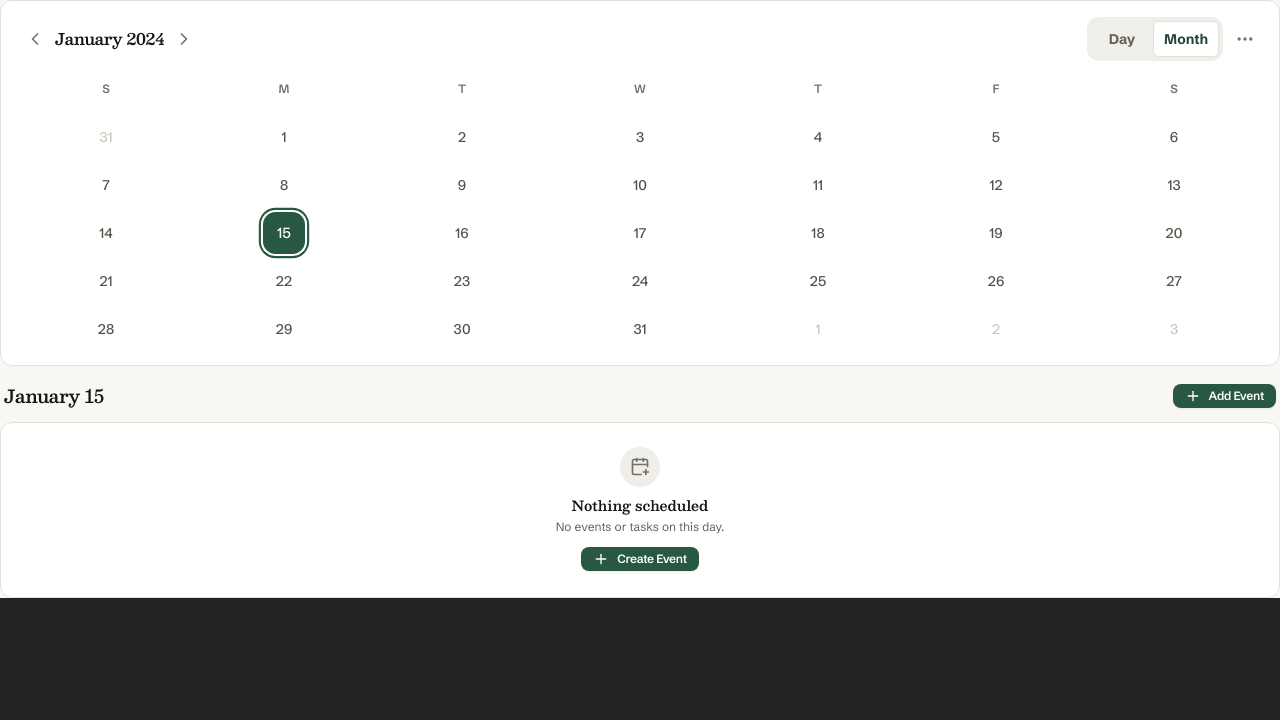
Test: BudgetCalendar › navigates between months
Expected: the heading "January 2024" is shown, top-left (55, 27), bottom-right (164, 51)
// Click Next
Click the button named "Next month": (184, 39) top-left (166, 21), bottom-right (202, 57)
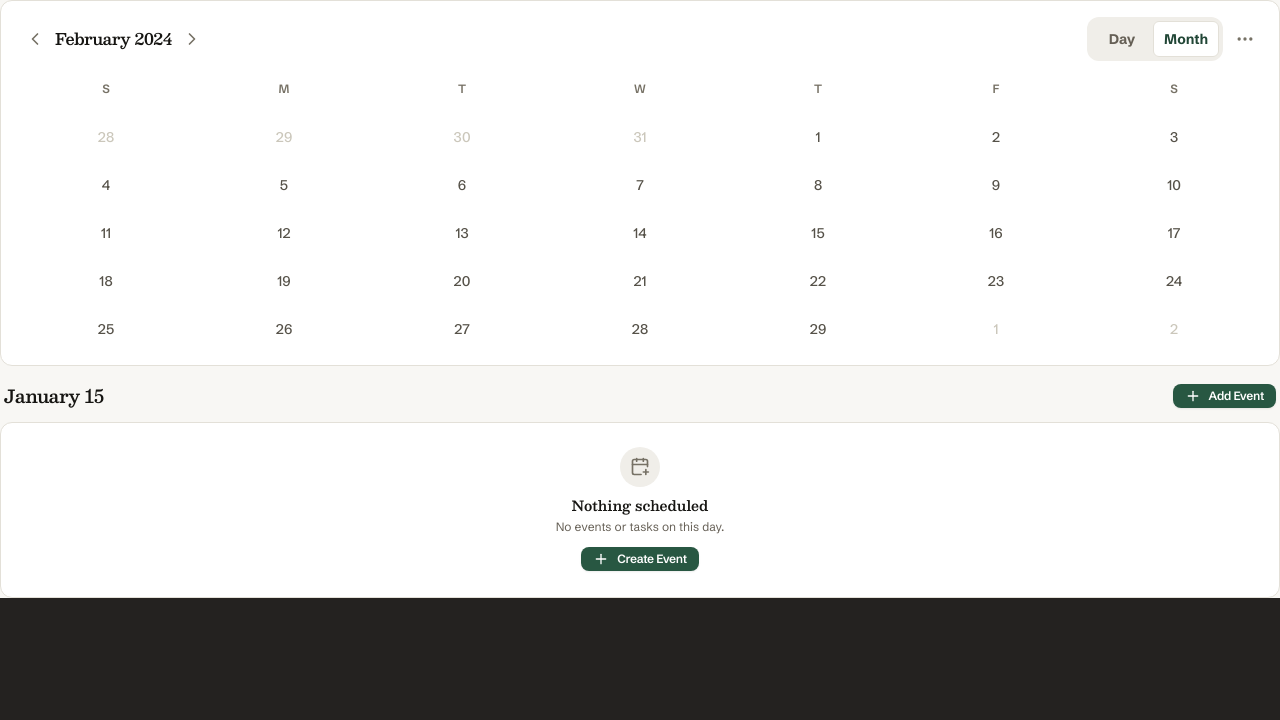
Expected: the heading "February 2024" is shown, top-left (55, 27), bottom-right (172, 51)
// Click Prev twice (back to current, then prev)
Click the button named "Previous month": (35, 39) top-left (17, 21), bottom-right (53, 57)
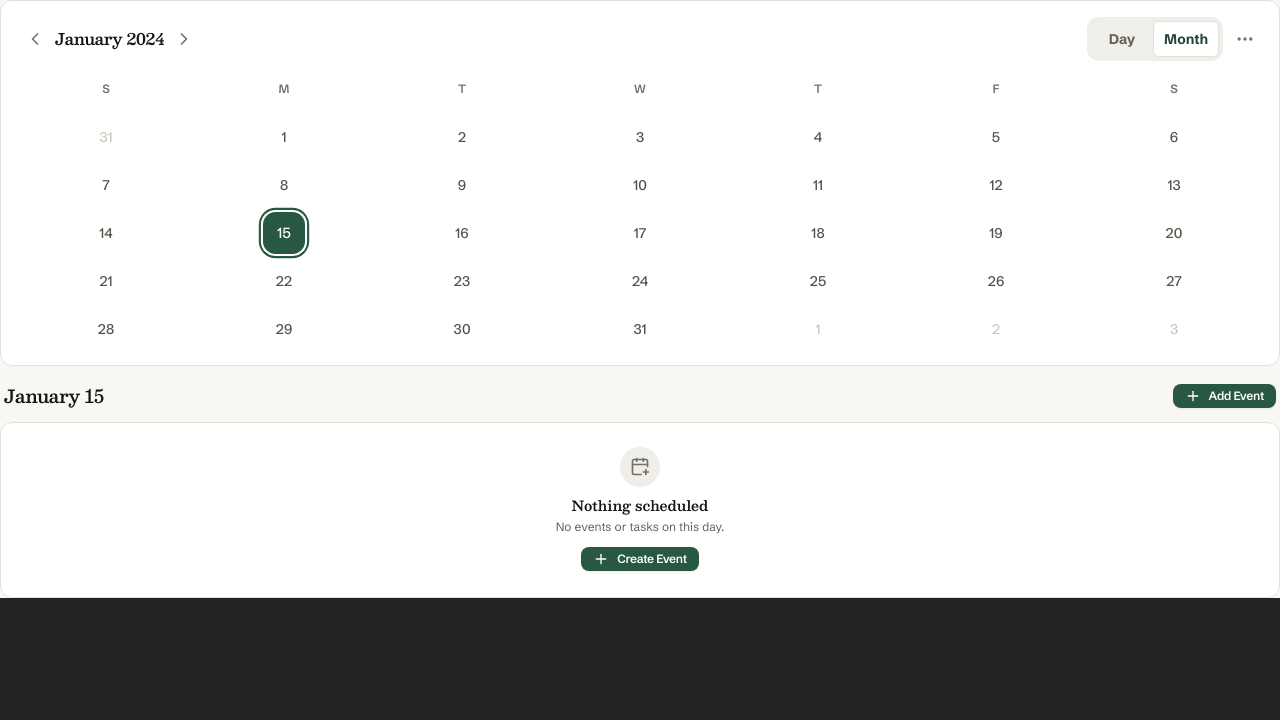
Click the button named "Previous month": (35, 39) top-left (17, 21), bottom-right (53, 57)
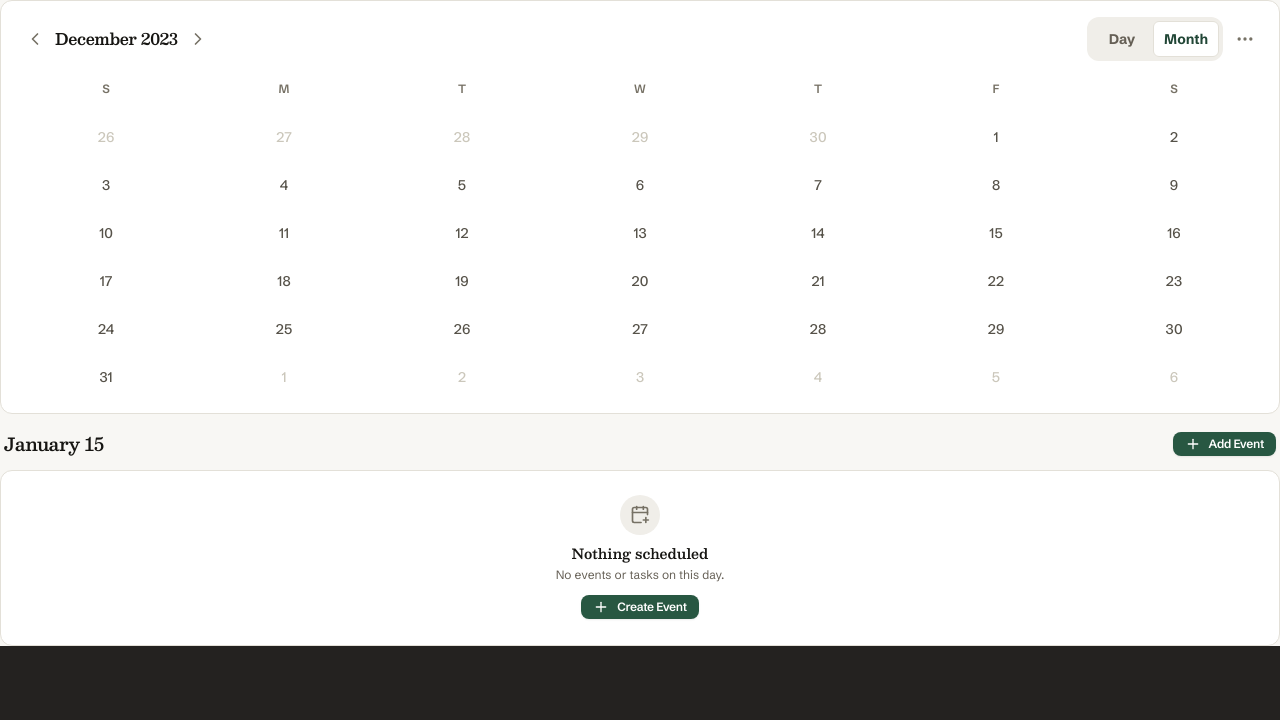
Expected: the heading "December 2023" is shown, top-left (55, 27), bottom-right (178, 51)
